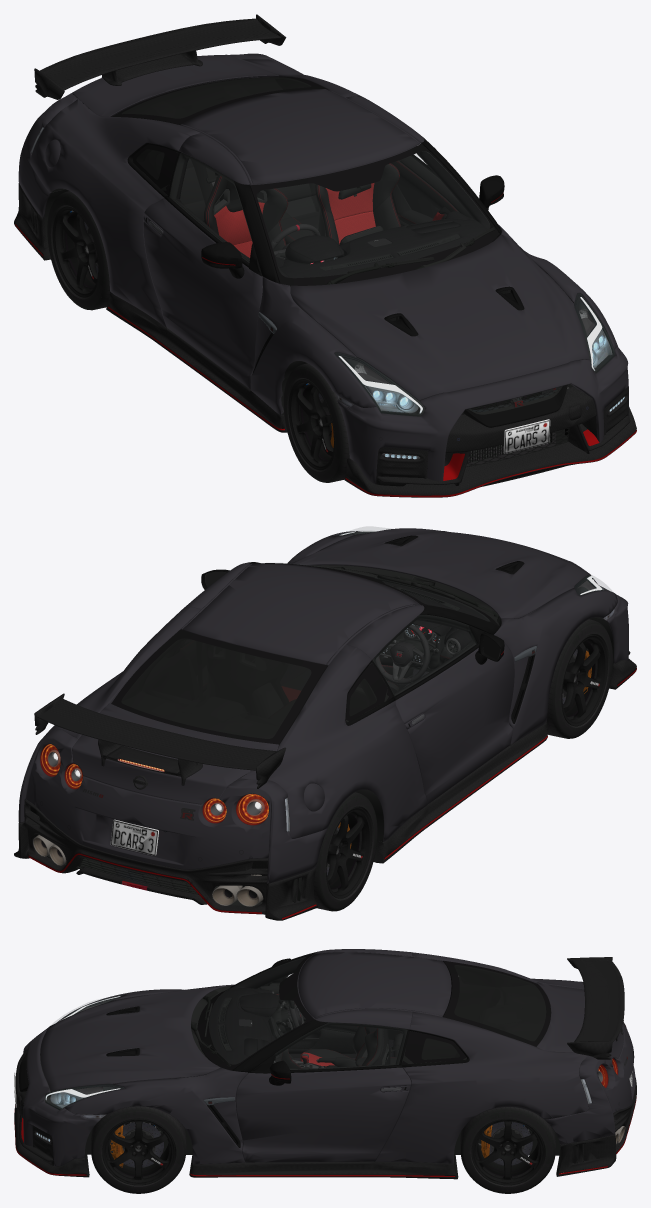
The model's file is nissan-gtr_r35_nismo-2020-600hp-2.5s-2-V6_Twin_Turbo-Coupe_Sport-652Nm-315kmh.glb.
3 views of the same model, one above another, from view 1: azimuth 30°, elevation 25°; view 2: azimuth 150°, elevation 25°; view 3: azimuth 270°, elevation 25° (orthographic). The views are drawn at different scales.
Parts seen in each view (by area): view 1: Object_37, Object_45, Object_41, Object_11, Object_2, Object_22, Object_43, Object_18, Object_33, Object_27, Object_5, Object_35 (+6 smaller); view 2: Object_37, Object_45, Object_41, Object_18, Object_43, Object_35, Object_33, Object_27, Object_2, Object_22, Object_6, Object_11 (+7 smaller); view 3: Object_37, Object_45, Object_41, Object_2, Object_43, Object_18, Object_27, Object_22, Object_11, Object_35, Object_29, Object_33 (+6 smaller).
Part boxes in pixels (x1=…): Object_37: x1=18, y1=53, x2=628, y2=483; Object_45: x1=112, y1=76, x2=614, y2=415; Object_41: x1=14, y1=14, x2=636, y2=497; Object_11: x1=147, y1=150, x2=471, y2=276; Object_2: x1=137, y1=79, x2=490, y2=278; Object_22: x1=127, y1=137, x2=567, y2=427; Object_43: x1=52, y1=206, x2=335, y2=470; Object_18: x1=122, y1=78, x2=489, y2=270; Object_33: x1=31, y1=94, x2=624, y2=468; Object_27: x1=47, y1=195, x2=341, y2=481; Object_5: x1=214, y1=183, x2=375, y2=257; Object_35: x1=44, y1=76, x2=573, y2=466; Object_37: x1=18, y1=528, x2=628, y2=883; Object_45: x1=40, y1=527, x2=612, y2=824; Object_41: x1=14, y1=651, x2=636, y2=920; Object_18: x1=122, y1=563, x2=490, y2=738; Object_43: x1=326, y1=635, x2=607, y2=898; Object_35: x1=33, y1=565, x2=613, y2=906; Object_33: x1=30, y1=531, x2=614, y2=902; Object_27: x1=319, y1=623, x2=612, y2=909; Object_2: x1=122, y1=581, x2=489, y2=715; Object_22: x1=201, y1=535, x2=535, y2=726; Object_6: x1=206, y1=644, x2=396, y2=715; Object_11: x1=146, y1=640, x2=475, y2=725; Object_37: x1=23, y1=949, x2=635, y2=1166; Object_45: x1=44, y1=954, x2=618, y2=1109; Object_41: x1=14, y1=957, x2=636, y2=1179; Object_2: x1=208, y1=958, x2=527, y2=1064; Object_43: x1=102, y1=1119, x2=544, y2=1185; Object_18: x1=213, y1=957, x2=545, y2=1069; Object_27: x1=93, y1=1110, x2=553, y2=1193; Object_22: x1=19, y1=952, x2=469, y2=1147; Object_11: x1=259, y1=984, x2=503, y2=1072; Object_35: x1=40, y1=960, x2=625, y2=1175; Object_29: x1=90, y1=1106, x2=555, y2=1193; Object_33: x1=35, y1=995, x2=617, y2=1162.
Bounding box in the file's own units: 2042 × 1389 × 4695.
37 materials, 31 textured.
